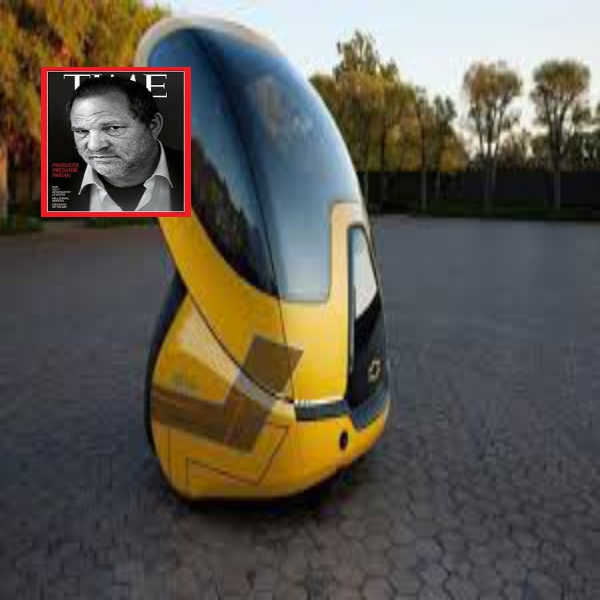time_cover: (43, 60, 192, 217)
